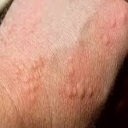Chickenpox: (22, 55, 48, 94), (67, 78, 99, 99)
